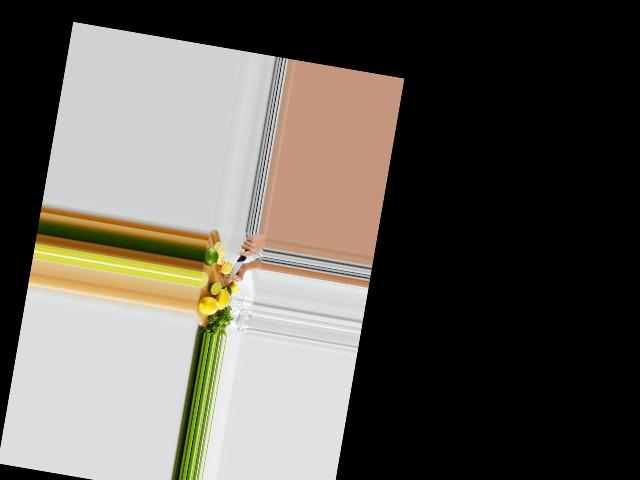lemon: (196, 293, 220, 319)
